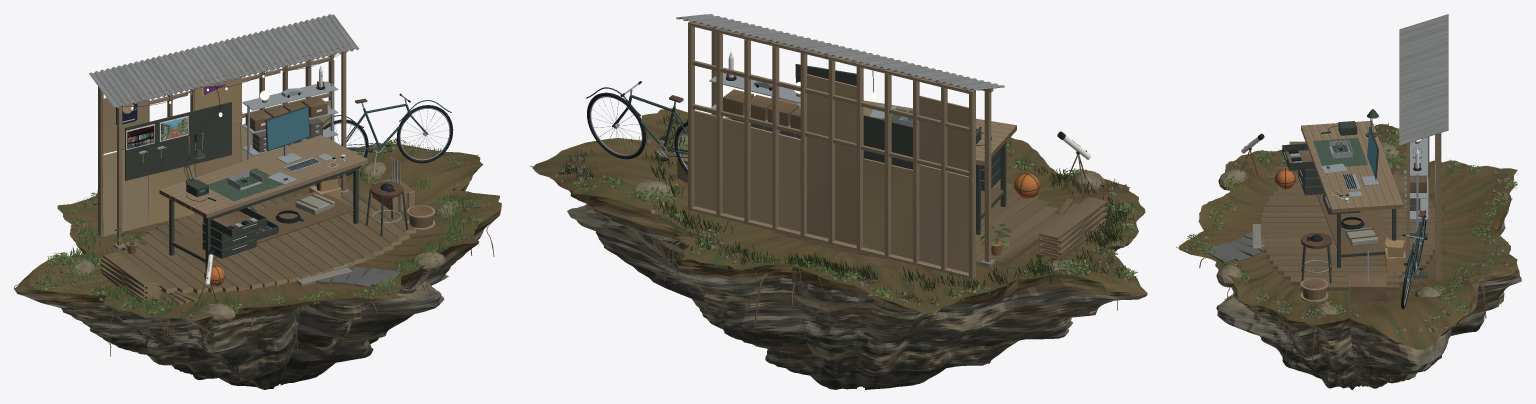
File: orbit-projects-5c2907a5.glb
3 views of the same model, side by side, from view 1: azimuth 30°, elevation 25°; view 2: azimuth 150°, elevation 25°; view 3: azimuth 270°, elevation 25° (orthographic). The views are drawn at different scales.
Visible parts, largest first — view 1: Projects island · browser materials, Project print · TaipeiFlix, Project print · Taipei Run; view 2: Projects island · browser materials; view 3: Projects island · browser materials.
Boxes of the visible parts, <box> form: Projects island · browser materials: <box>14,14,501,389</box>; Project print · TaipeiFlix: <box>127,125,154,148</box>; Project print · Taipei Run: <box>161,117,187,140</box>; Projects island · browser materials: <box>530,14,1147,389</box>; Projects island · browser materials: <box>1176,14,1521,389</box>.
Bounding box in the file's own units: 12.78 × 7.92 × 8.17.
47 materials, 2 textured.
